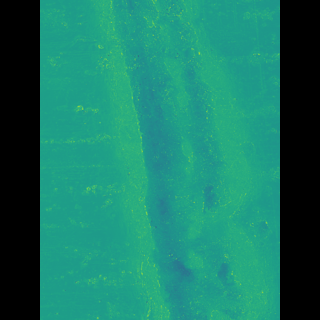Loch: (110, 0, 244, 320)
